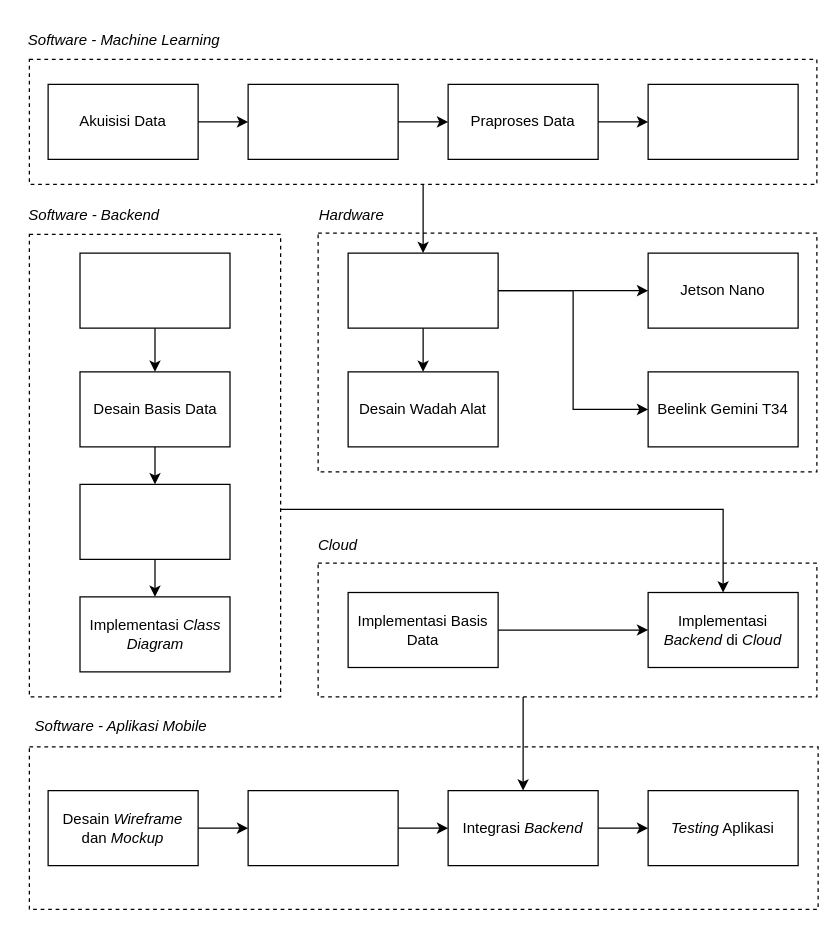
Some shapes in this 840 by 931 pixel diagram are drawn without their labels. Each missing label, with the centre of its shape:
Desain Class Diagram: the point at 154,521
Implementasi di Edge Device: the point at 422,290
Labelling Data: the point at 322,121
Membuat daftar fitur aplikasi: the point at 154,290
Pelatihan Data: the point at 722,121
Pembuatan Prototipe: the point at 322,827
